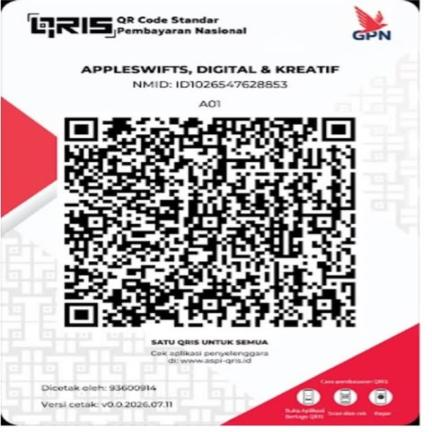Qris-Positioning: (0, 0, 419, 426)
